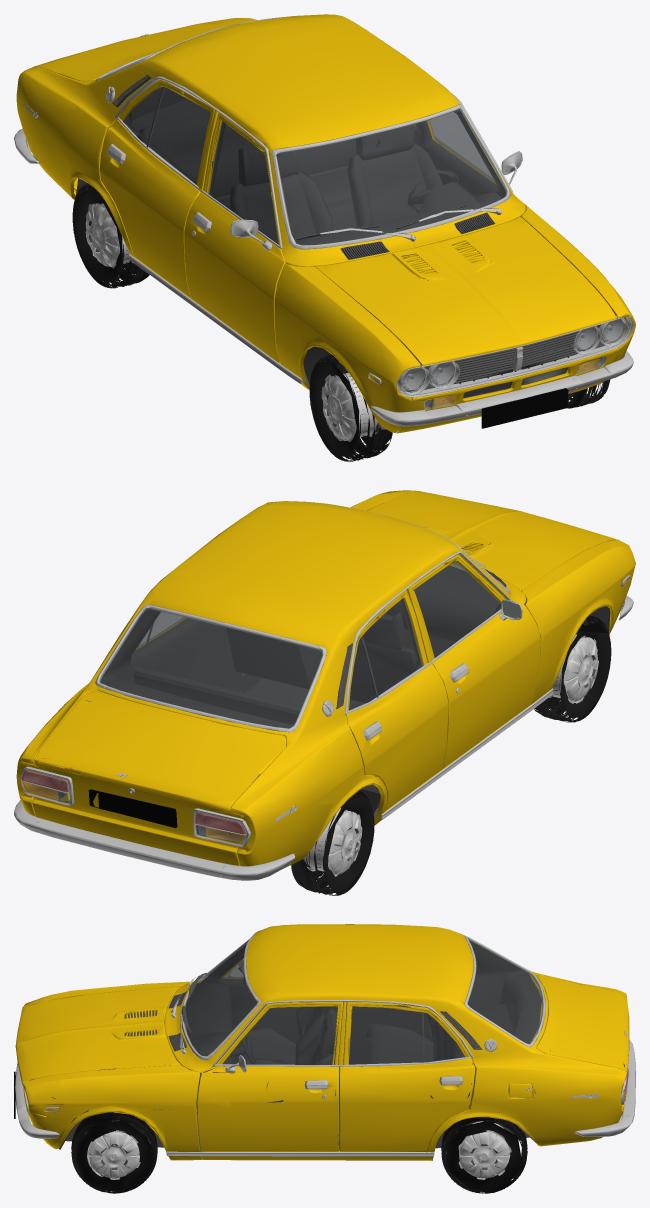
File: mazda_616_1974.glb
3 renders of one model, top to bottom at view 1: azimuth 30°, elevation 25°; view 2: azimuth 150°, elevation 25°; view 3: azimuth 270°, elevation 25°, orthographic. The views are drawn at different scales.
Parts seen in each view (by area): view 1: Object_2, Object_3, Object_5, Object_36, Object_17, Object_10, Object_22, Object_26, Object_56, Object_57, Object_48, Object_28 (+8 smaller); view 2: Object_2, Object_3, Object_5, Object_36, Object_19, Object_17, Object_57, Object_56, Object_49, Object_48, Object_15, Object_27 (+9 smaller); view 3: Object_2, Object_5, Object_36, Object_3, Object_17, Object_54, Object_55, Object_47, Object_46, Object_58, Object_23, Object_19 (+5 smaller).
Boxes of the visible parts, x1,y1,x2,y2 form: Object_2: (16,14,635,433); Object_3: (53,23,634,432); Object_5: (105,29,507,245); Object_36: (123,79,521,280); Object_17: (95,15,512,249); Object_10: (76,178,627,429); Object_22: (370,351,633,426); Object_26: (396,315,634,397); Object_56: (309,355,392,460); Object_57: (72,184,149,286); Object_48: (321,372,379,441); Object_28: (401,319,623,409); Object_2: (16,490,615,871); Object_3: (32,490,635,834); Object_5: (99,501,505,730); Object_36: (100,565,526,808); Object_19: (14,800,296,880); Object_17: (95,501,511,732); Object_57: (290,792,374,894); Object_56: (534,616,610,721); Object_49: (303,808,362,876); Object_48: (549,634,598,703); Object_15: (23,577,629,842); Object_27: (20,575,630,847); Object_2: (15,924,629,1160); Object_5: (184,938,545,1064); Object_36: (171,940,541,1148); Object_3: (20,975,628,1160); Object_17: (181,931,545,1066); Object_54: (71,1112,157,1192); Object_55: (441,1120,526,1192); Object_47: (458,1121,511,1179); Object_46: (87,1121,140,1179); Object_58: (71,1112,157,1193); Object_23: (166,1151,434,1156); Object_19: (571,1039,635,1136).
Bounding box in the file's own units: 1.73 × 1.41 × 4.09.
